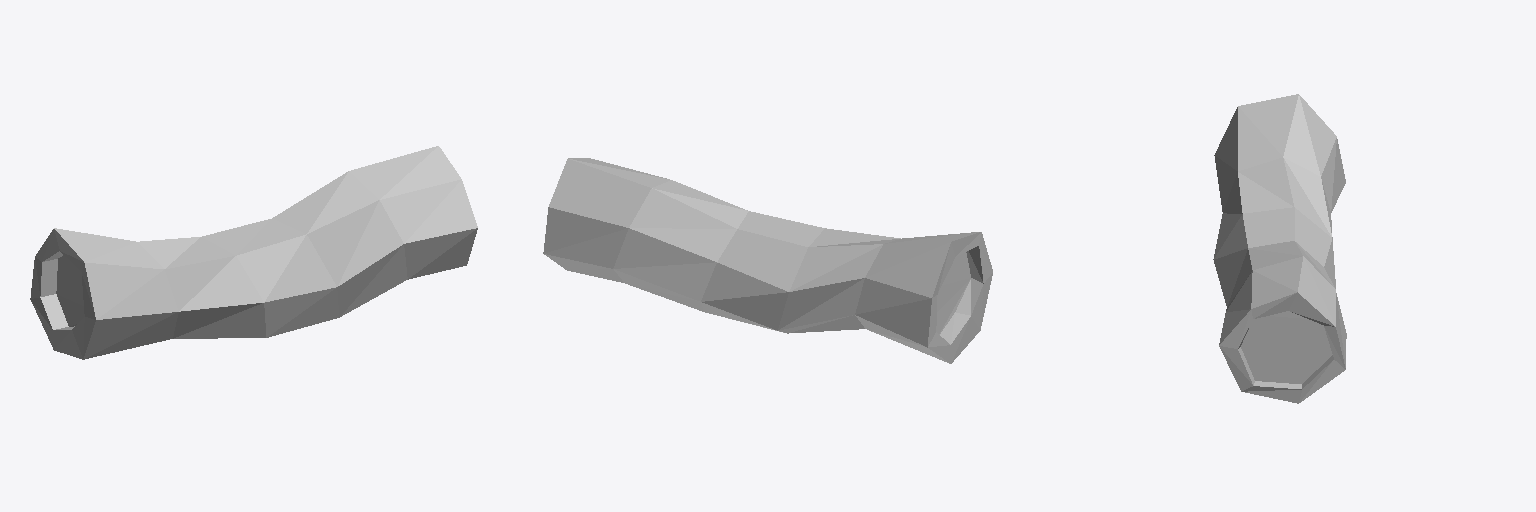
The model's file is Log1.obj.
3 renders of one model, left to right at view 1: azimuth 30°, elevation 25°; view 2: azimuth 150°, elevation 25°; view 3: azimuth 270°, elevation 25°, orthographic.
Parts seen in each view (by area): view 1: Log_4_Cylinder.003; view 2: Log_4_Cylinder.003; view 3: Log_4_Cylinder.003.
Boxes of the visible parts, <box> form: Log_4_Cylinder.003: <box>30,146,477,359</box>; Log_4_Cylinder.003: <box>543,158,992,363</box>; Log_4_Cylinder.003: <box>1213,94,1346,403</box>.
Size of the model in its own units: 6.46 by 2.17 by 1.92.